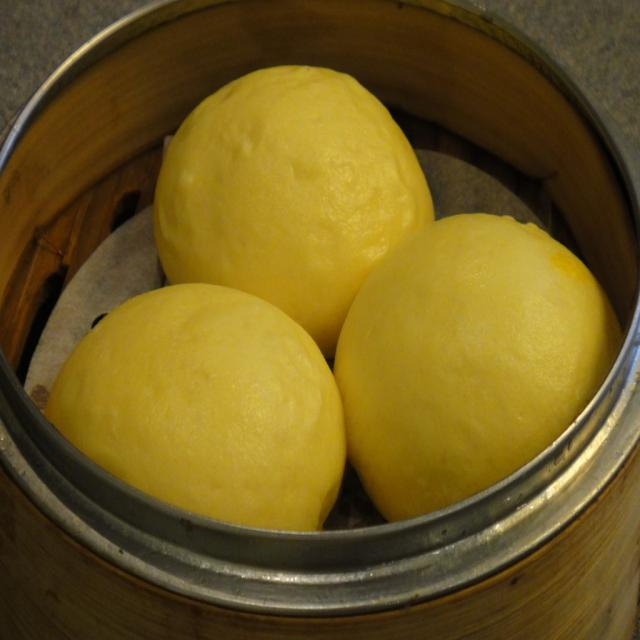Lemon: (333, 208, 623, 524), (154, 62, 438, 358), (45, 282, 348, 532)
